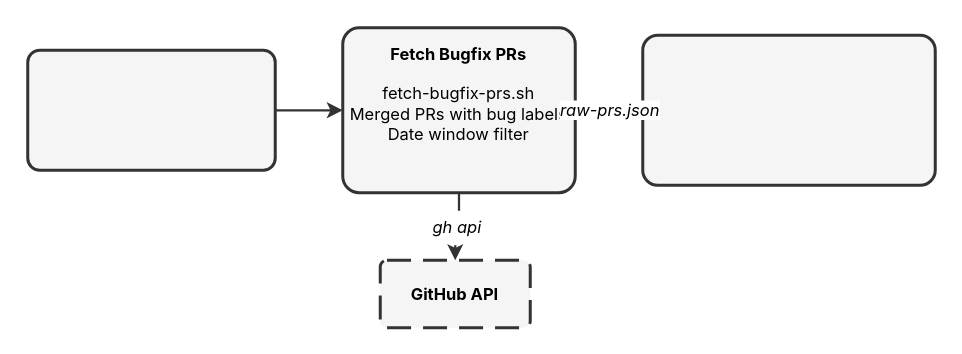
Image size: 962x354. Some labels were removed from this diagram. The centre of each missing label's shape, as x and y in pixels:
/vllm-backport-fetch-prs DAYS_BACK (default: 14): the point at 151,109
Output raw-prs.json PR objects with labels, authors, merge commits: the point at 788,109
